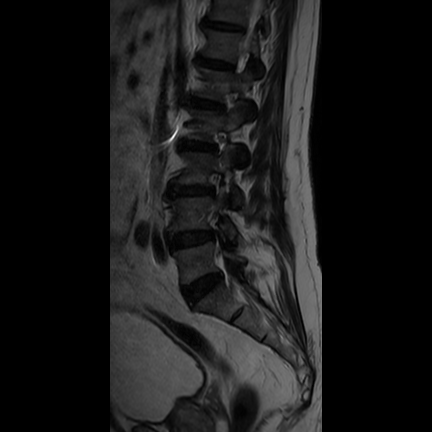RFS0: (197, 166, 229, 202), (205, 124, 232, 163)
